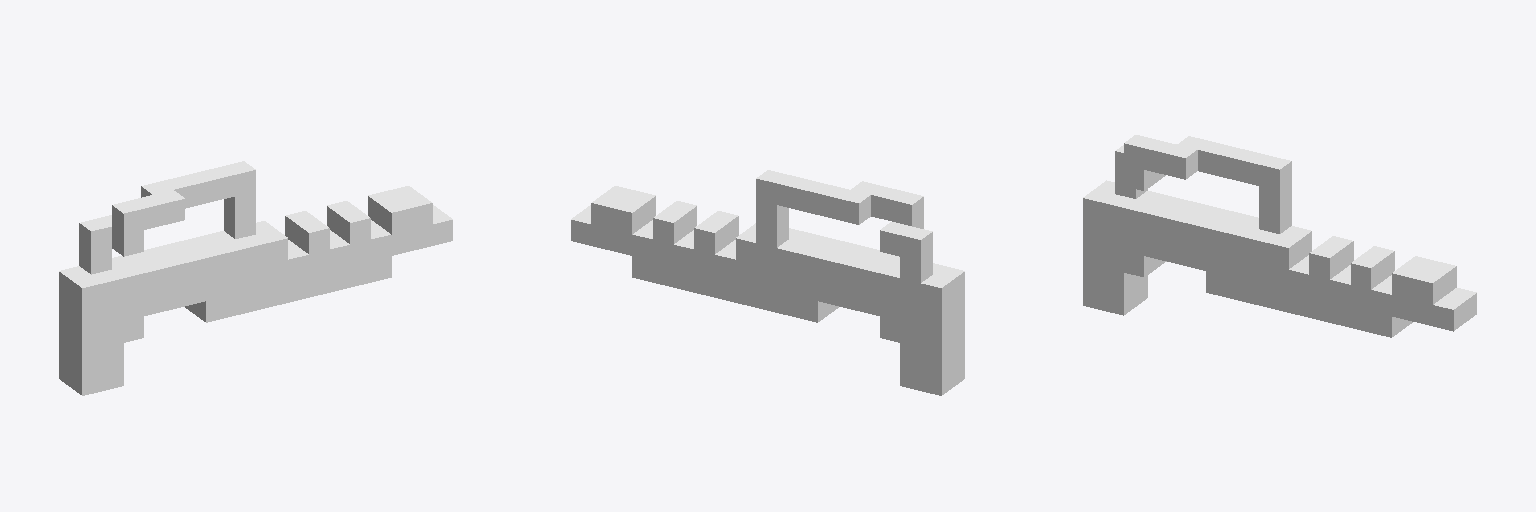
File: SpaceGun.obj
The picture shows the model from 3 angles: view 1: azimuth 30°, elevation 25°; view 2: azimuth 150°, elevation 25°; view 3: azimuth 330°, elevation 25°; orthographic projection.
Size of the model in its own units: 18 by 8 by 2.